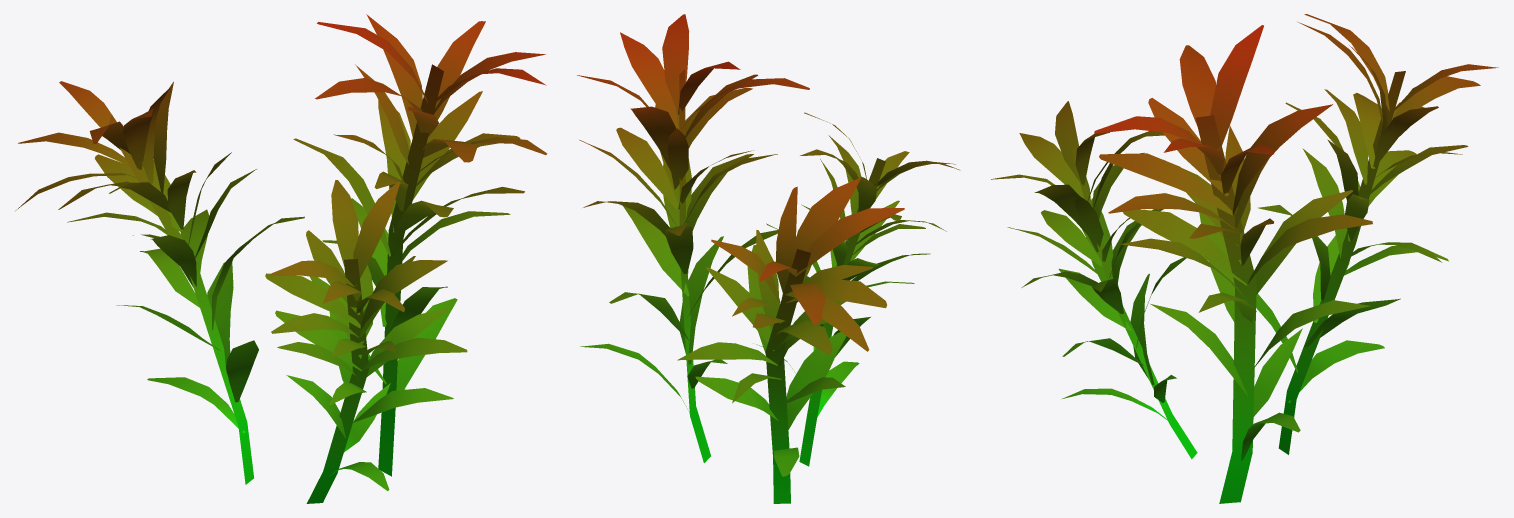
The model's file is Goldenrods_LOD4_Var6.fbx.
3 renders of one model, left to right at view 1: azimuth 30°, elevation 25°; view 2: azimuth 150°, elevation 25°; view 3: azimuth 270°, elevation 25°, orthographic. The views are drawn at different scales.
Visible parts, largest first — view 1: _m20w_Var6_LOD4; view 2: _m20w_Var6_LOD4; view 3: _m20w_Var6_LOD4.
Part boxes in pixels (bbox=[...]): _m20w_Var6_LOD4: bbox=[15, 14, 547, 503]; _m20w_Var6_LOD4: bbox=[577, 14, 960, 503]; _m20w_Var6_LOD4: bbox=[991, 14, 1498, 503].
Size of the model in its own units: 48.38 by 52.01 by 52.84.
